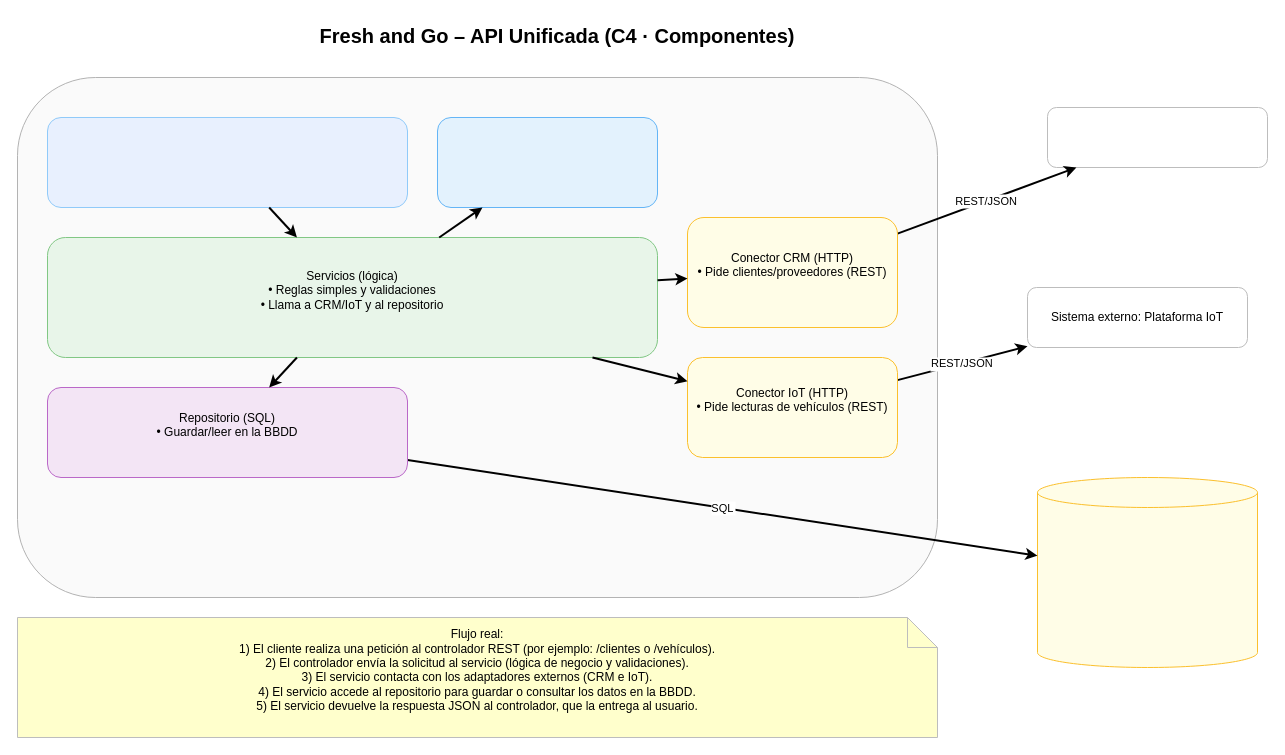
Some shapes in this 1285 by 755 pixel diagram are drawn without their labels. The shapes that lost their labels are listed below. From the top down, each one's centre as x and y in pixels, then its label:
At (1157,137): "Sistema externo: CRM".
At (227,162): "Controladores REST • /clientes, /vehículos, /pedidos".
At (547,162): "Autenticación (futura ampliación) • Login y roles básicos".
At (1147,572): "BBDD Central • Pedidos, flota, incidencias, usuarios".
